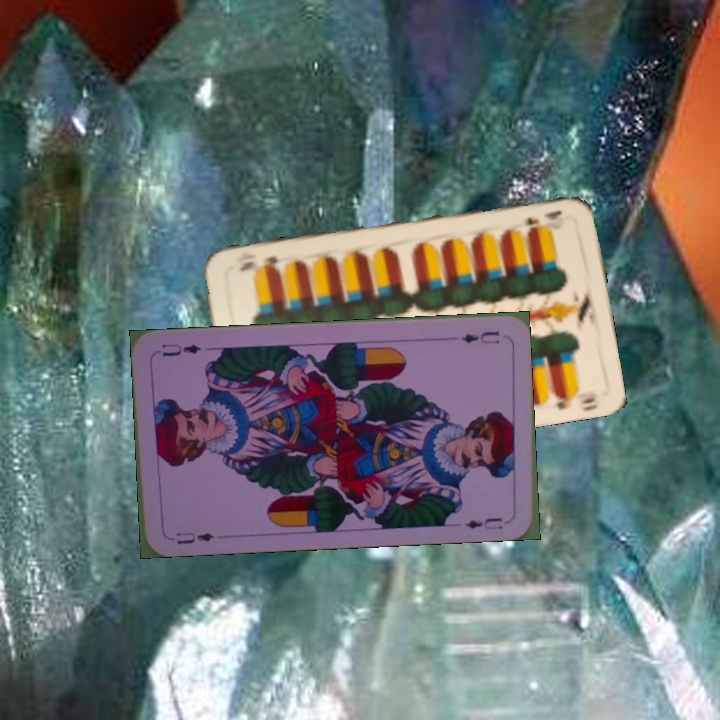E10: (521, 206, 565, 228)
EU: (458, 327, 502, 347), (172, 528, 217, 547)
